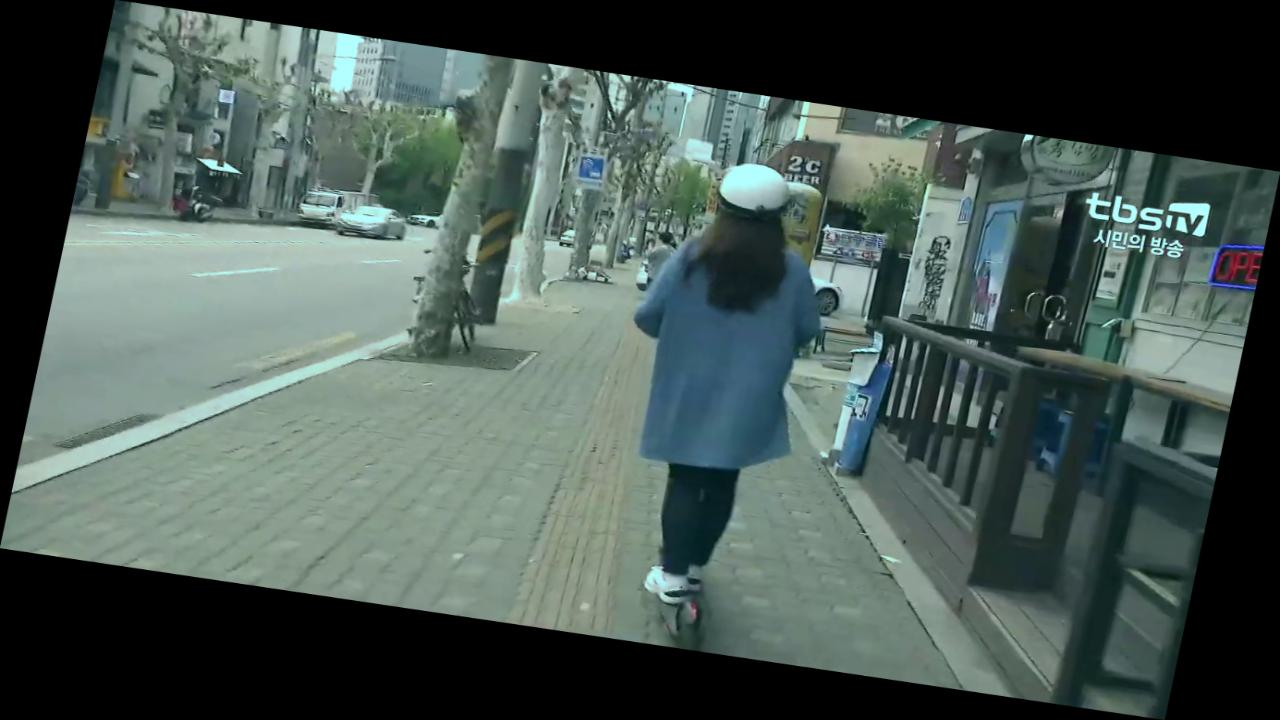helmet: (567, 149, 855, 659)
